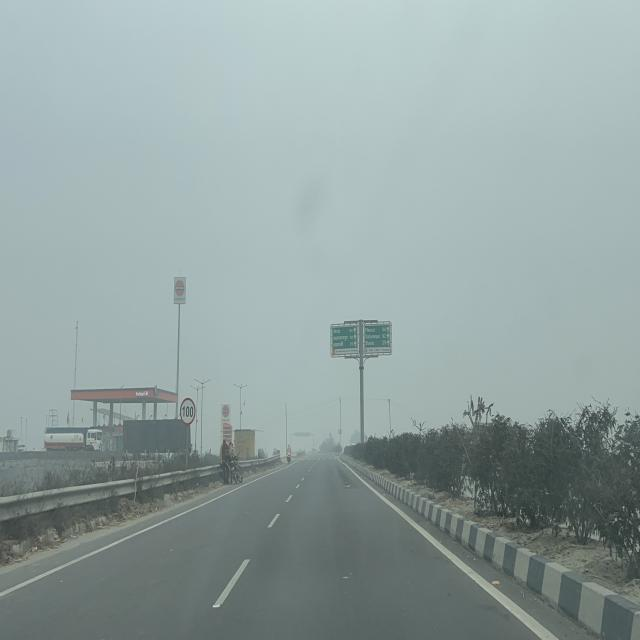GENERAL: (331, 324, 359, 354), (364, 323, 391, 354)
